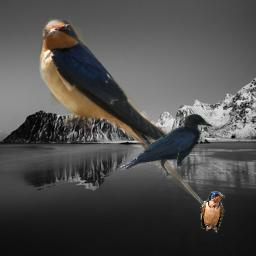Crow: (120, 113, 212, 178)
Swallow: (38, 18, 206, 207), (200, 191, 225, 233)
